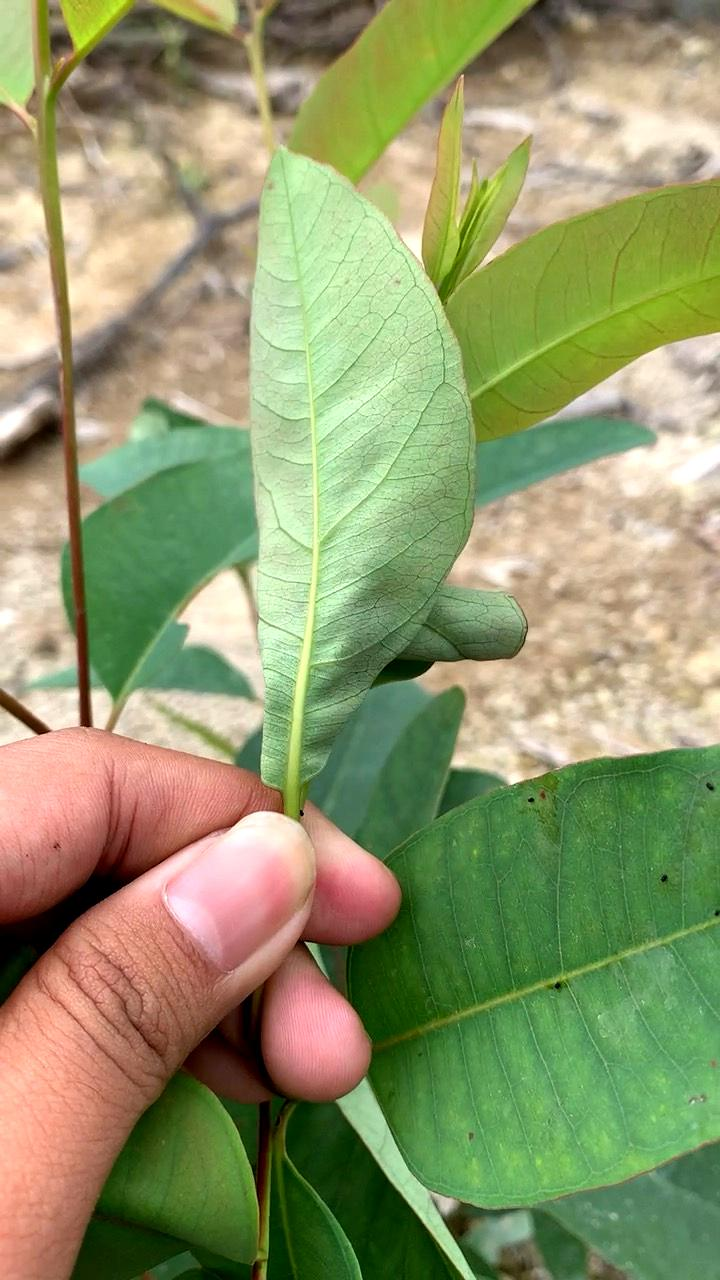Leaf Roller - Leaf: (237, 553, 560, 706)
